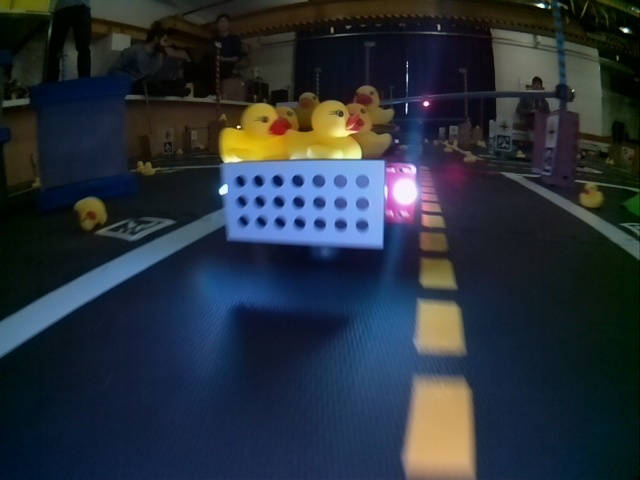Duckie: (292, 102, 361, 159), (222, 104, 290, 157), (344, 106, 390, 152), (355, 86, 394, 122), (74, 196, 105, 227), (294, 93, 319, 125), (579, 182, 601, 207), (143, 163, 154, 175)
Duckiebot: (221, 142, 419, 253)
Intersection sign: (545, 118, 558, 144), (497, 120, 511, 134)
QR code: (97, 216, 175, 240), (546, 148, 553, 174), (497, 138, 511, 150)
